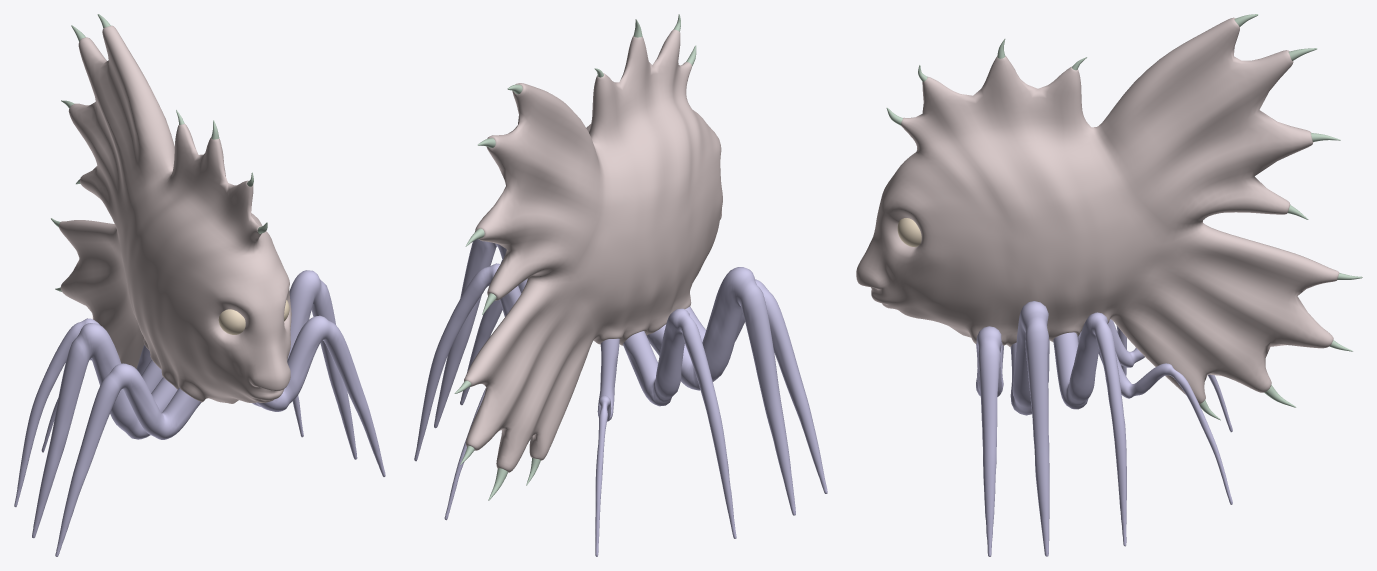
The model's file is feeshFixedUVs.fbx.
The picture shows the model from 3 angles, left to right: view 1: azimuth 30°, elevation 25°; view 2: azimuth 150°, elevation 25°; view 3: azimuth 270°, elevation 25°; orthographic projection. The views are drawn at different scales.
Parts seen in each view (by area): view 1: polySurface9, polySurface8, Spikes12, EyeR; view 2: polySurface9, polySurface8, Spikes12; view 3: polySurface9, polySurface8, Spikes12.
Part boxes in pixels (x1,y1,x2,y2): polySurface9: (59, 25, 291, 403); polySurface8: (14, 270, 385, 556); Spikes12: (51, 14, 267, 291); EyeR: (218, 309, 245, 334); polySurface9: (464, 29, 722, 472); polySurface8: (414, 239, 827, 556); Spikes12: (454, 14, 696, 500); polySurface9: (856, 17, 1339, 404); polySurface8: (976, 301, 1232, 556); Spikes12: (886, 14, 1362, 420).
Size of the model in its own units: 1.66 by 1.99 by 2.01.
